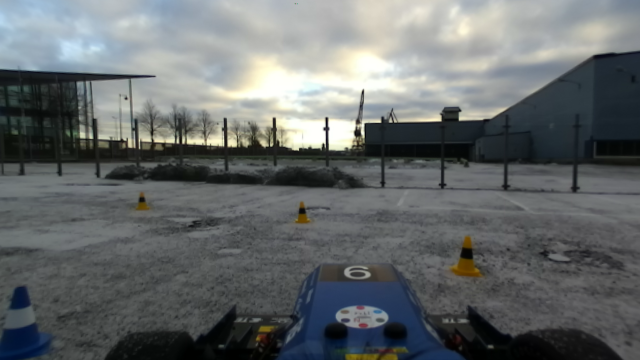blue: (2, 285, 46, 360)
yellow: (450, 234, 484, 281), (292, 200, 311, 226), (133, 190, 150, 211)
